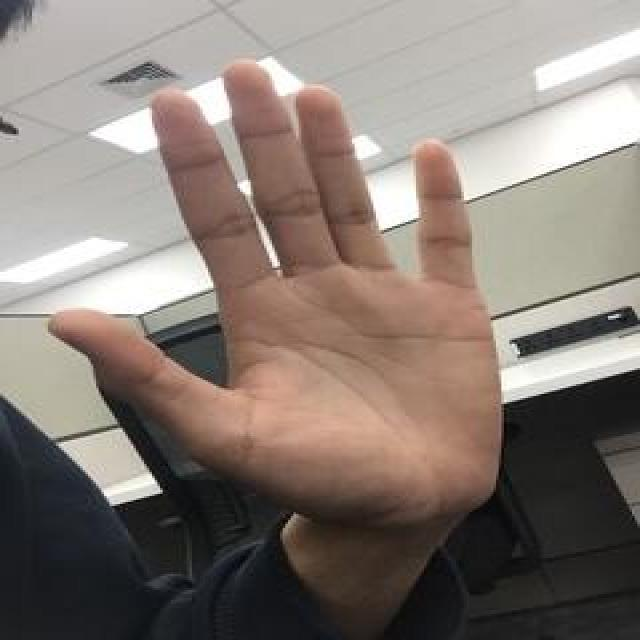no-gloves: (48, 60, 499, 510)
